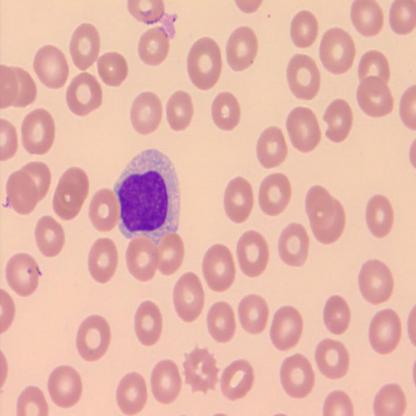Myelocyte: (111, 146, 182, 244)
